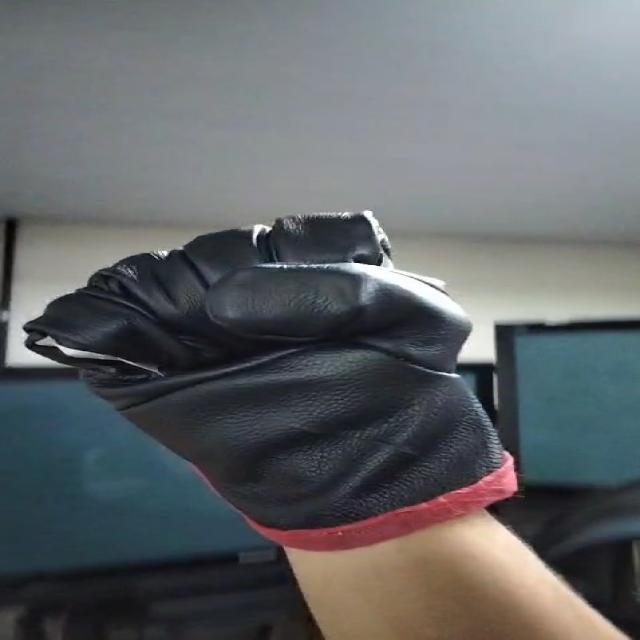Gloves: (20, 205, 529, 531)
